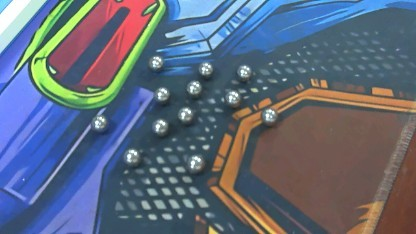ironball: (256, 103, 280, 127), (183, 152, 207, 175), (148, 115, 169, 140), (232, 61, 254, 82), (184, 79, 205, 100), (119, 146, 142, 165), (91, 111, 110, 134), (146, 50, 164, 72), (152, 85, 171, 105), (195, 58, 213, 79), (176, 105, 194, 125), (223, 89, 241, 105)
